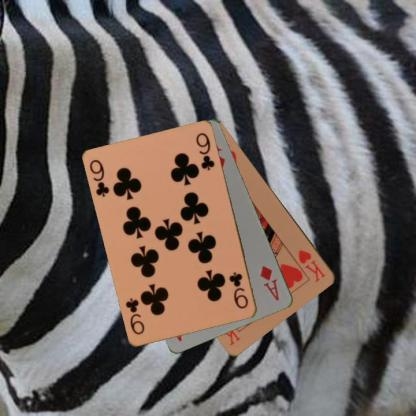9c: (87, 156, 111, 198), (226, 270, 249, 310)
Ad: (258, 263, 280, 302)
Kh: (296, 246, 327, 284)
